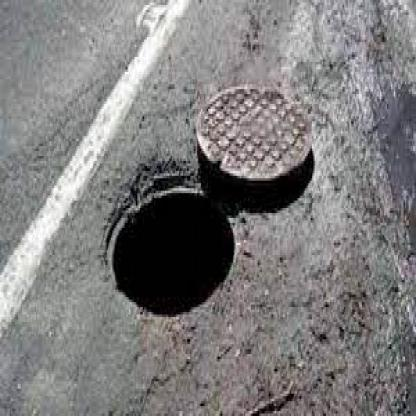open manhole-not overflowing-: (103, 85, 314, 322)
